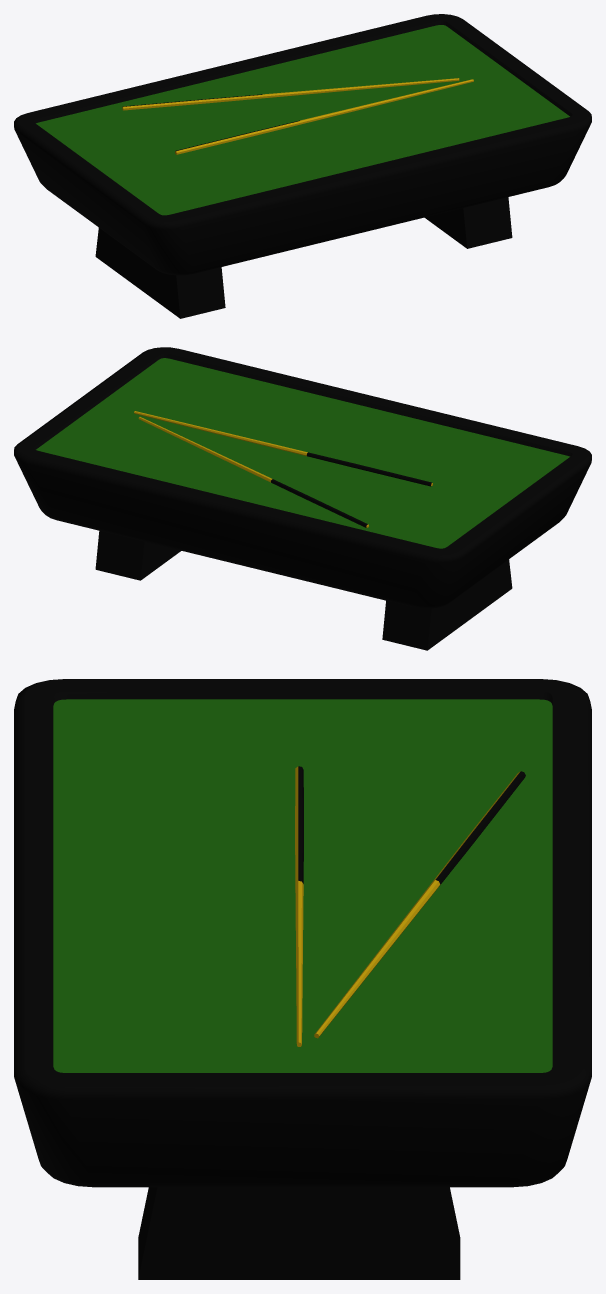
The model's file is SM_SnookerTable.fbx.
The picture shows the model from 3 angles, top to bottom: view 1: azimuth 30°, elevation 25°; view 2: azimuth 150°, elevation 25°; view 3: azimuth 270°, elevation 25°; orthographic projection. The views are drawn at different scales.
Parts seen in each view (by area): view 1: Cube, Cube.001, Cylinder.001, Cylinder; view 2: Cube, Cube.001, Cylinder, Cylinder.001; view 3: Cube, Cube.001, Cylinder.001, Cylinder.
Boxes of the visible parts, x1,y1,x2,y2 form: Cube: (14,14,591,275); Cube.001: (95,197,512,318); Cylinder.001: (122,78,459,110); Cylinder: (175,79,473,154); Cube: (14,347,591,608); Cube.001: (95,531,512,650); Cylinder: (134,411,432,486); Cylinder.001: (138,417,368,527); Cube: (14,679,591,1187); Cube.001: (138,1187,460,1279); Cylinder.001: (314,771,525,1038); Cylinder: (295,766,303,1046).
Bounding box in the file's own units: 218 × 60 × 129.
